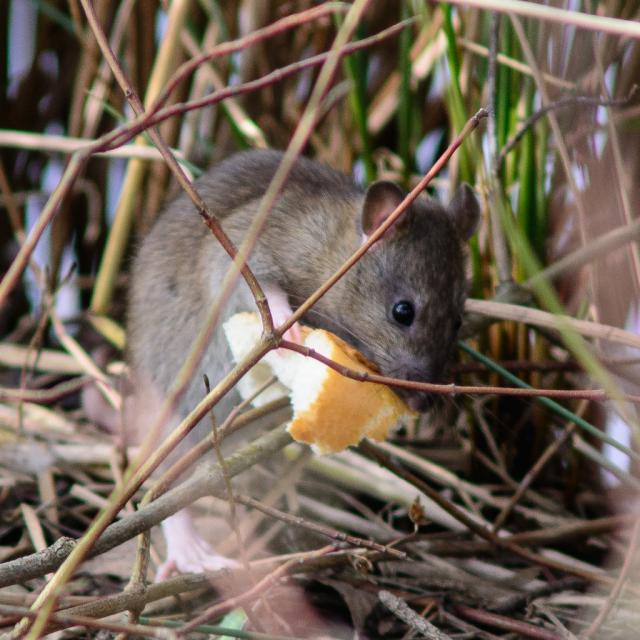rat: (99, 134, 471, 473)
